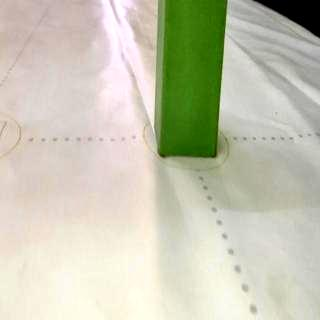greenbox: (153, 0, 230, 157)
